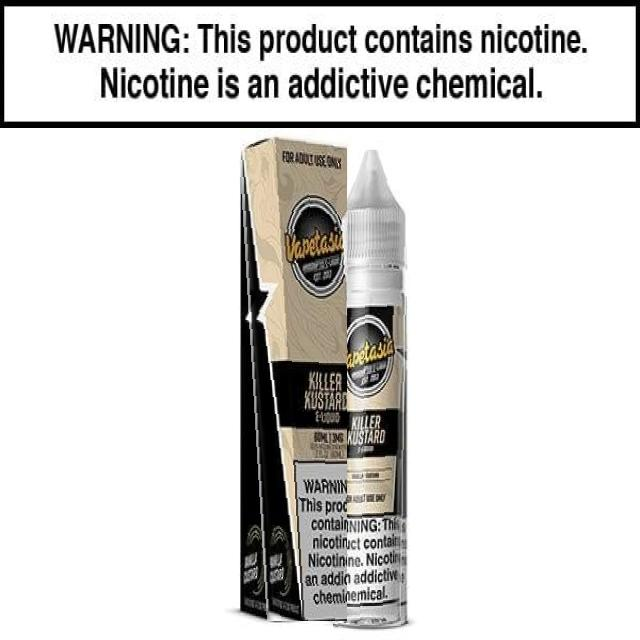Vapes: (238, 134, 347, 621), (333, 149, 408, 629)
